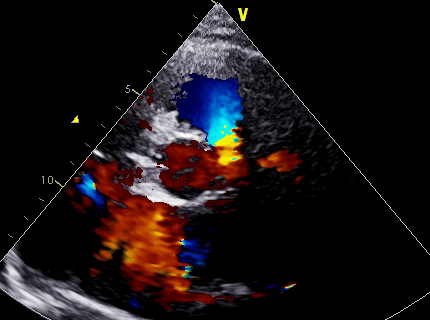TR: (91, 153, 137, 204)
